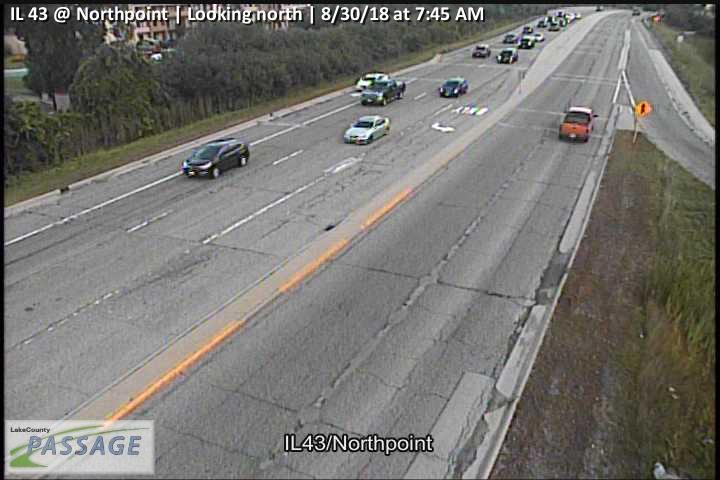SUV: (181, 139, 250, 180), (518, 37, 535, 49)
Sedan: (344, 115, 390, 146), (356, 73, 389, 92), (440, 77, 468, 98), (496, 49, 518, 64), (472, 45, 491, 58), (503, 34, 519, 44), (533, 33, 545, 41)
Truck: (559, 107, 599, 144), (361, 78, 406, 106)
